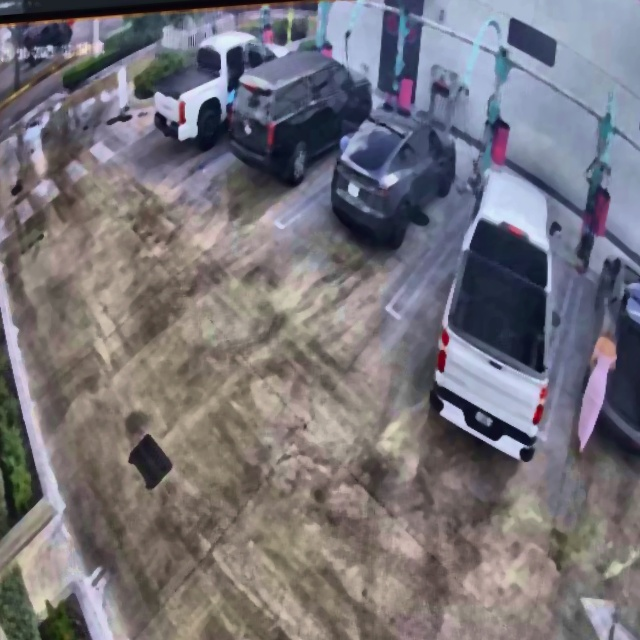Car: (430, 166, 562, 463), (227, 48, 371, 187), (332, 100, 457, 248)
